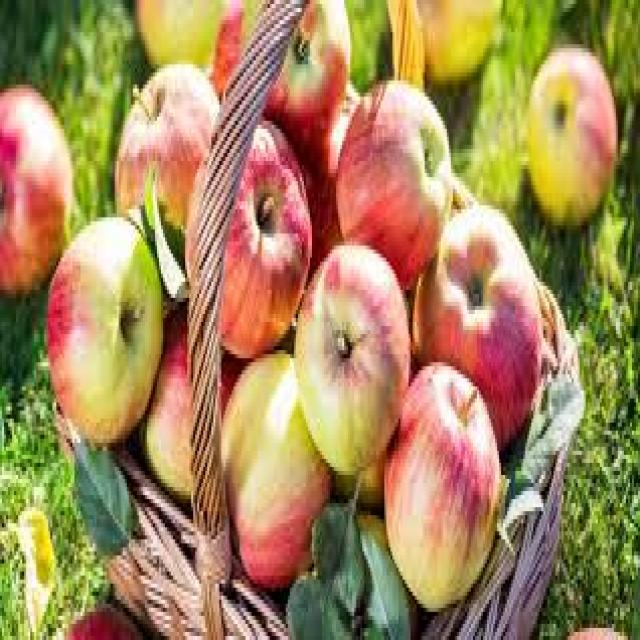Apple: (419, 214, 544, 423), (50, 220, 164, 448), (298, 246, 409, 480), (218, 352, 322, 572), (200, 138, 314, 338), (396, 366, 494, 597), (336, 79, 448, 247), (528, 48, 615, 224), (118, 65, 212, 224), (1, 80, 68, 288), (264, 4, 355, 131)
